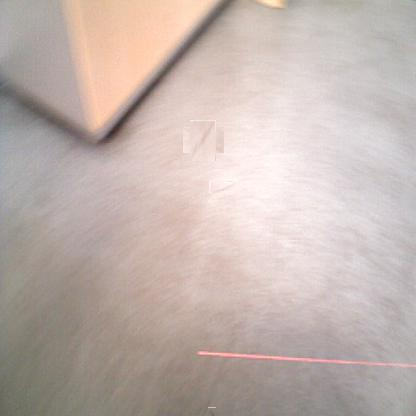mark: (187, 124, 220, 157), (210, 181, 234, 193), (208, 407, 216, 416)
